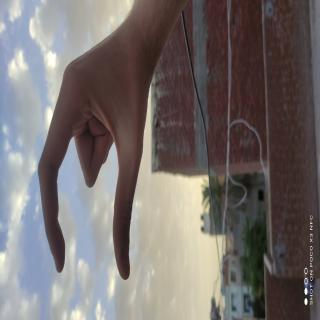DELL: (15, 66, 140, 320)
